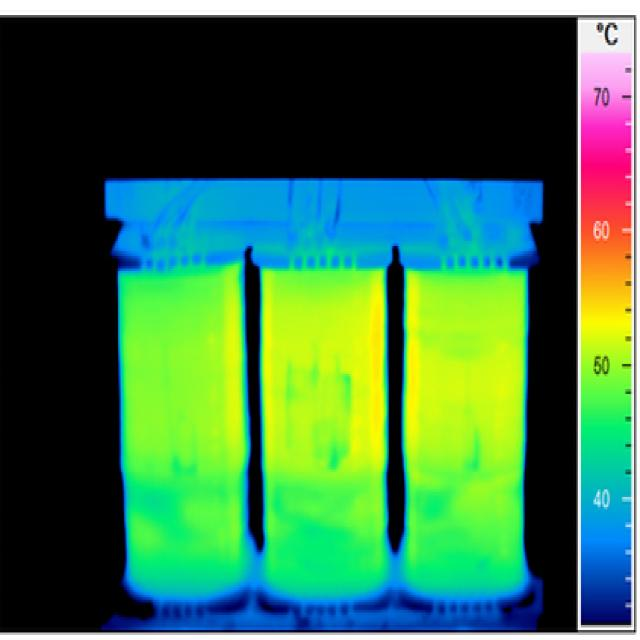Transformer: (103, 181, 542, 627)
